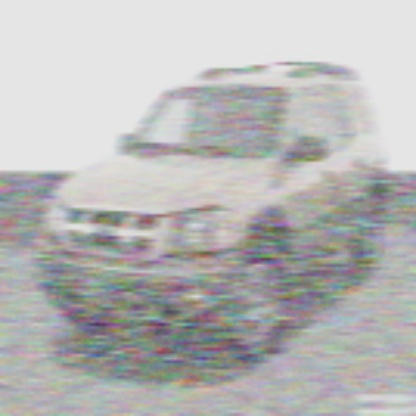Vehicle: (30, 62, 393, 363)
